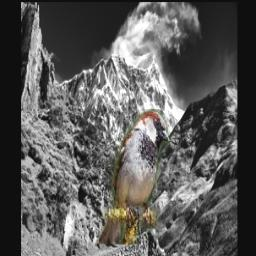Sparrow: (98, 110, 170, 246)
